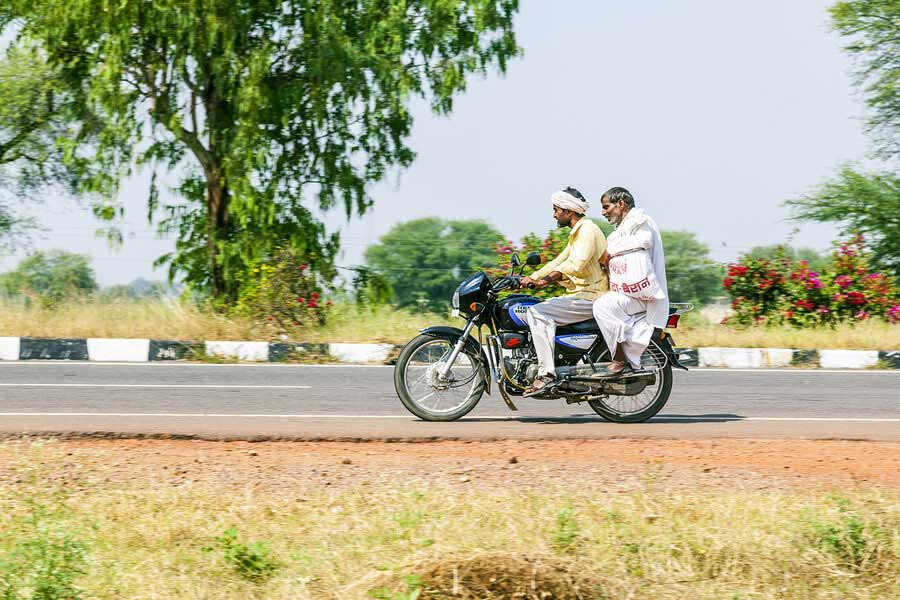Bike: (391, 279, 695, 426)
